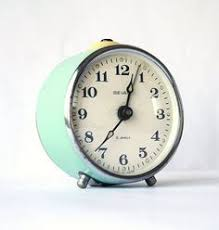alarm_clock: (36, 33, 185, 186)
